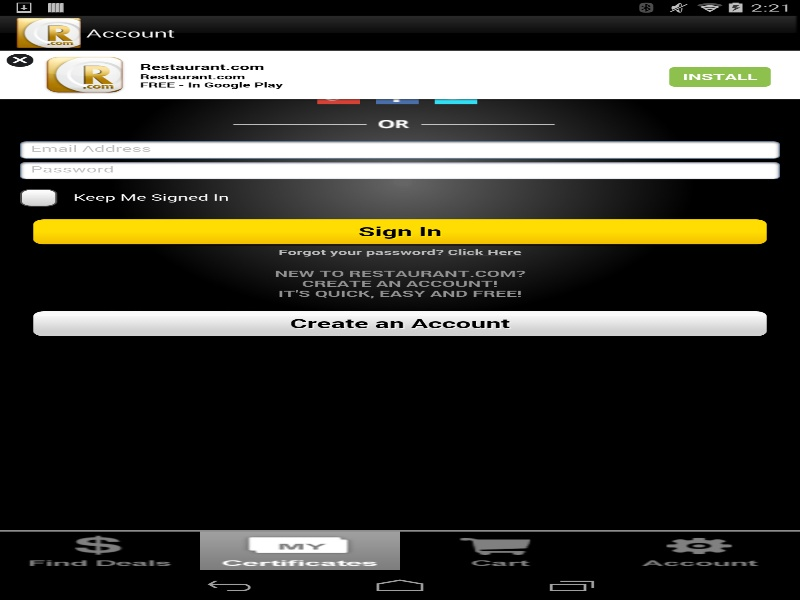Button: (33, 219, 766, 244), (317, 84, 360, 104), (434, 84, 477, 104), (376, 84, 418, 104)
Input: (20, 161, 780, 179), (20, 141, 780, 158)
